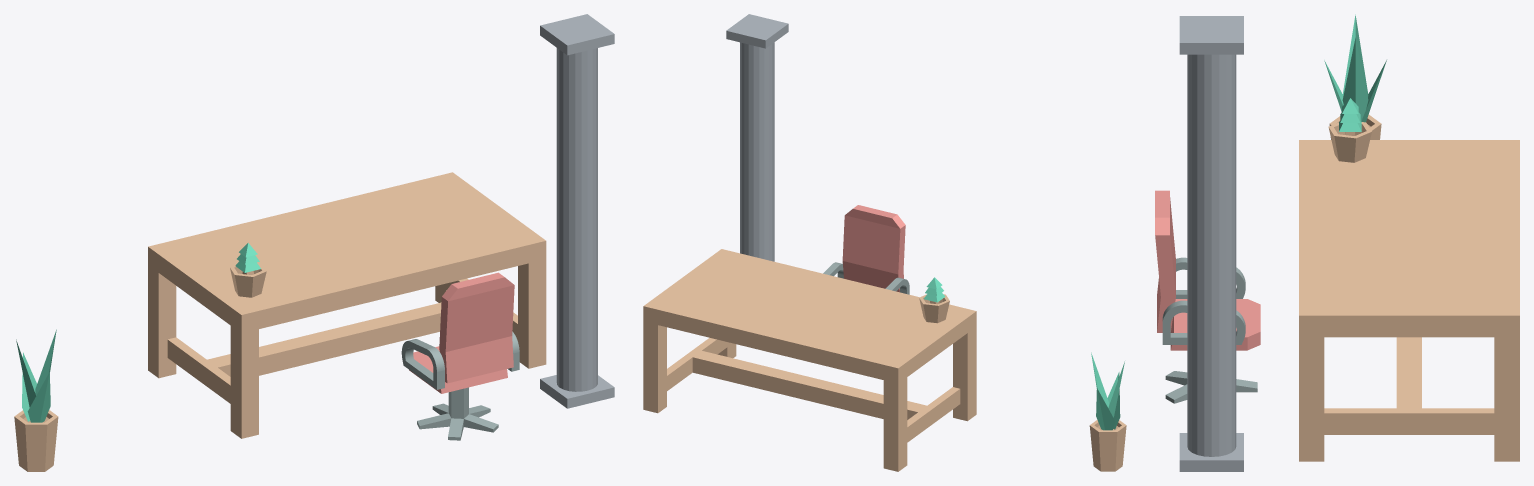
3 renders of one model, left to right at view 1: azimuth 30°, elevation 25°; view 2: azimuth 150°, elevation 25°; view 3: azimuth 270°, elevation 25°, orthographic. The views are drawn at different scales.
Parts seen in each view (by area): view 1: table_green__table(Clone), column_cyan__column_cyan shaft, deskchair_black__chair, plant_pink__pottedPlant(Clone), column_cyan__column_cyan capital, deskchair_black__chairDesk(Clone), plant_pink__plant, flowerpot_green__plantSmall1(Clone), column_cyan__column_cyan plinth; view 2: table_green__table(Clone), column_cyan__column_cyan shaft, deskchair_black__chair, plant_pink__pottedPlant(Clone), column_cyan__column_cyan capital, plant_pink__plant, flowerpot_green__plantSmall1(Clone); view 3: table_green__table(Clone), column_cyan__column_cyan shaft, deskchair_black__chair, column_cyan__column_cyan capital, plant_pink__plant, flowerpot_green__plantSmall1(Clone), column_cyan__column_cyan plinth, deskchair_black__chairDesk(Clone).
Part boxes in pixels (bbox=[...]): table_green__table(Clone): bbox=[148, 172, 546, 438]; column_cyan__column_cyan shaft: bbox=[556, 48, 597, 391]; deskchair_black__chair: bbox=[401, 272, 519, 393]; plant_pink__pottedPlant(Clone): bbox=[14, 410, 58, 471]; column_cyan__column_cyan capital: bbox=[540, 14, 614, 55]; deskchair_black__chairDesk(Clone): bbox=[417, 387, 498, 440]; plant_pink__plant: bbox=[16, 329, 56, 422]; flowerpot_green__plantSmall1(Clone): bbox=[230, 243, 266, 297]; column_cyan__column_cyan plinth: bbox=[540, 375, 614, 408]; table_green__table(Clone): bbox=[643, 249, 976, 471]; column_cyan__column_cyan shaft: bbox=[740, 42, 774, 261]; deskchair_black__chair: bbox=[823, 205, 909, 294]; plant_pink__pottedPlant(Clone): bbox=[1089, 420, 1126, 471]; column_cyan__column_cyan capital: bbox=[726, 14, 788, 48]; plant_pink__plant: bbox=[1091, 352, 1124, 430]; flowerpot_green__plantSmall1(Clone): bbox=[919, 277, 949, 323]; table_green__table(Clone): bbox=[1299, 140, 1519, 461]; column_cyan__column_cyan shaft: bbox=[1187, 54, 1236, 456]; deskchair_black__chair: bbox=[1155, 190, 1260, 350]; column_cyan__column_cyan capital: bbox=[1179, 16, 1243, 54]; plant_pink__plant: bbox=[1324, 14, 1386, 122]; flowerpot_green__plantSmall1(Clone): bbox=[1328, 98, 1371, 162]; column_cyan__column_cyan plinth: bbox=[1179, 433, 1243, 471]; deskchair_black__chairDesk(Clone): bbox=[1165, 371, 1257, 403].
Bounding box in the file's own units: 3.32 × 2.2 × 1.7.
